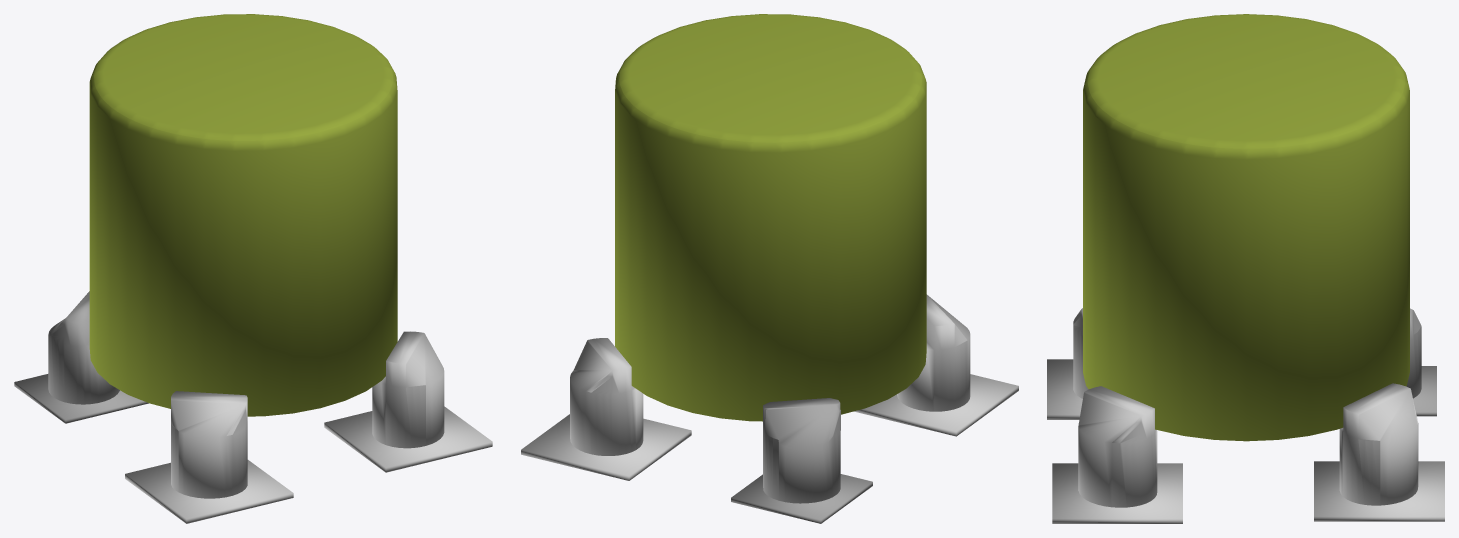
Rendered from tank2Small.obj.
The picture shows the model from 3 angles, left to right: view 1: azimuth 30°, elevation 25°; view 2: azimuth 150°, elevation 25°; view 3: azimuth 270°, elevation 25°; orthographic projection. The views are drawn at different scales.
Visible parts, largest first — view 1: Cylinder, Cylinder.003_Cylinder.004, Cylinder.001_Cylinder.006, Cylinder.004_Cylinder.008; view 2: Cylinder, Cylinder.002_Cylinder.007, Cylinder.004_Cylinder.008, Cylinder.003_Cylinder.004; view 3: Cylinder, Cylinder.001_Cylinder.006, Cylinder.002_Cylinder.007, Cylinder.003_Cylinder.004, Cylinder.004_Cylinder.008.
Part boxes in pixels (left/top/right/bottom): Cylinder: left=89, top=14, right=397, bottom=416; Cylinder.003_Cylinder.004: left=125, top=391, right=293, bottom=523; Cylinder.001_Cylinder.006: left=324, top=331, right=492, bottom=472; Cylinder.004_Cylinder.008: left=14, top=291, right=148, bottom=423; Cylinder: left=615, top=14, right=926, bottom=421; Cylinder.002_Cylinder.007: left=521, top=338, right=691, bottom=480; Cylinder.004_Cylinder.008: left=731, top=398, right=872, bottom=523; Cylinder.003_Cylinder.004: left=854, top=294, right=1018, bottom=436; Cylinder: left=1083, top=14, right=1409, bottom=441; Cylinder.001_Cylinder.006: left=1052, top=386, right=1182, bottom=523; Cylinder.002_Cylinder.007: left=1314, top=383, right=1444, bottom=521; Cylinder.003_Cylinder.004: left=1047, top=308, right=1088, bottom=419; Cylinder.004_Cylinder.008: left=1406, top=308, right=1436, bottom=416.
Bounding box in the file's own units: 2.31 × 2.46 × 2.43.
